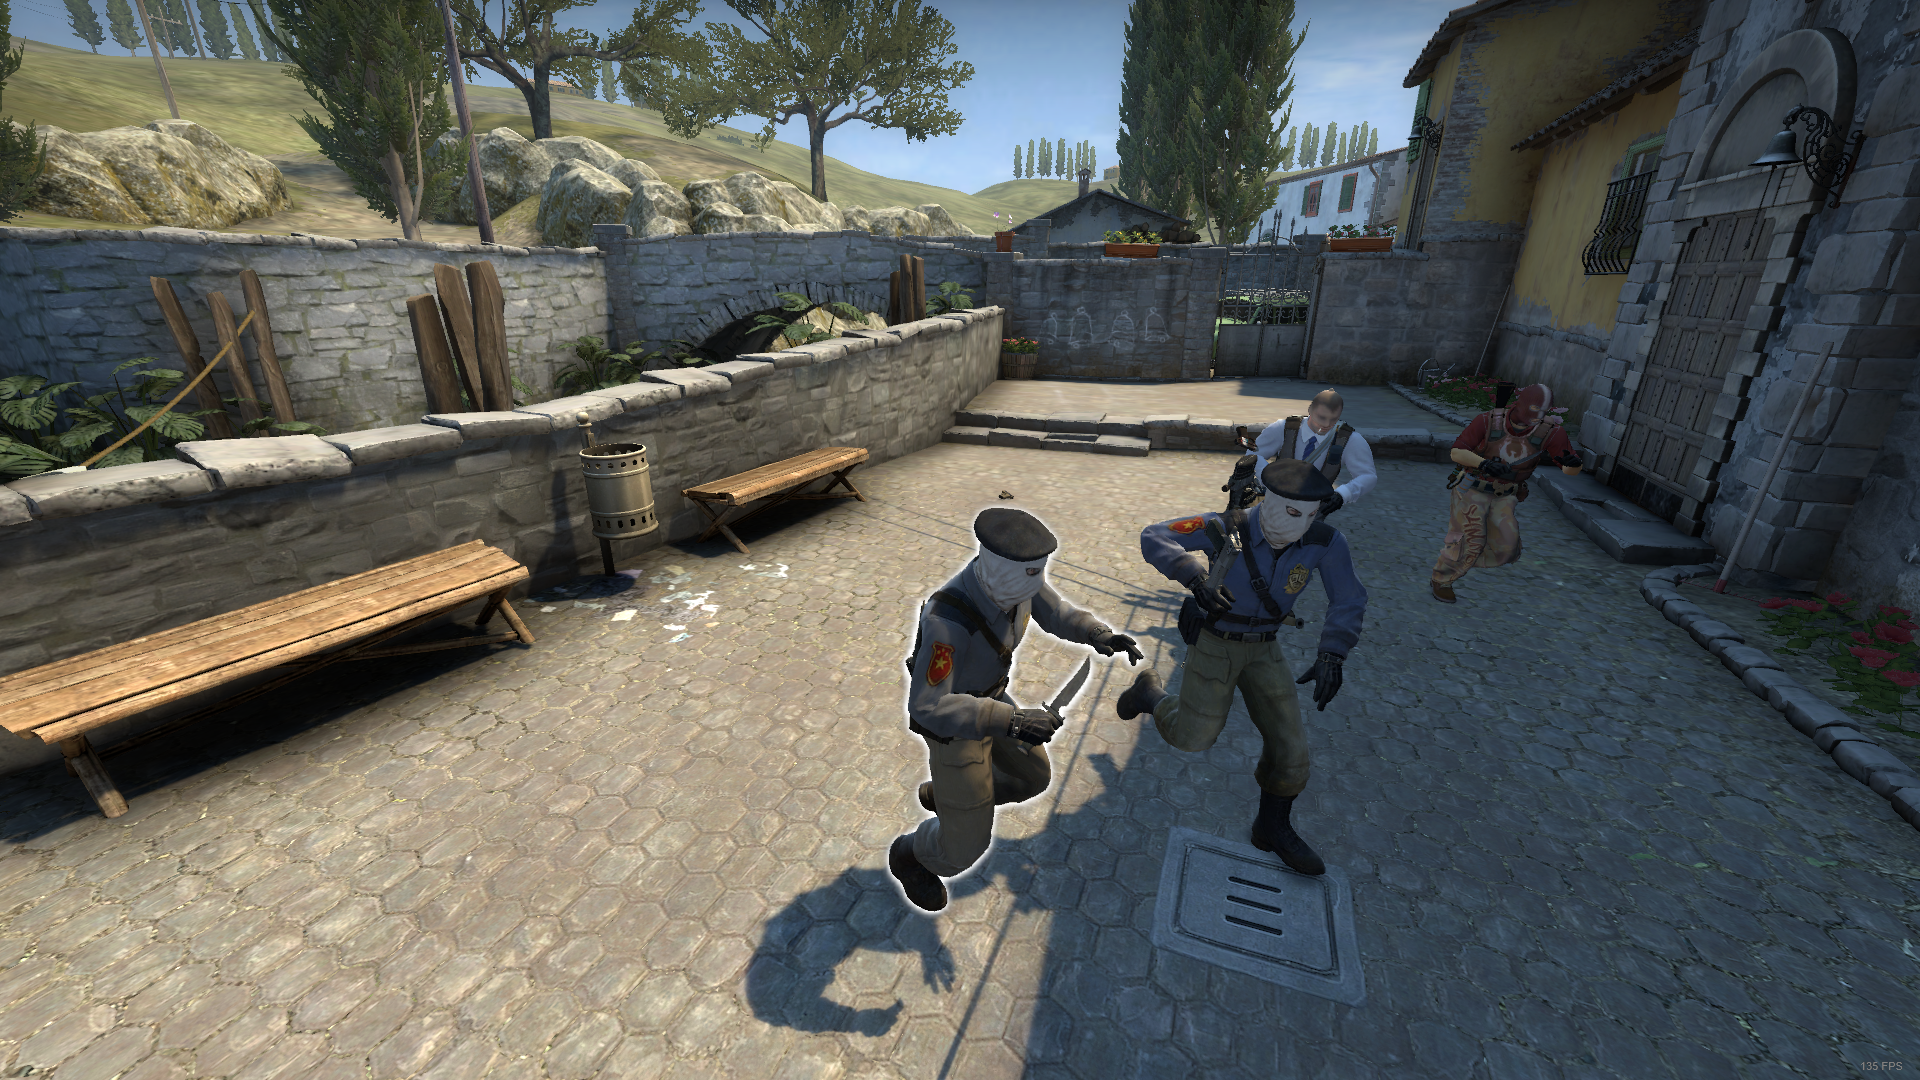t: (1112, 455, 1365, 899)
